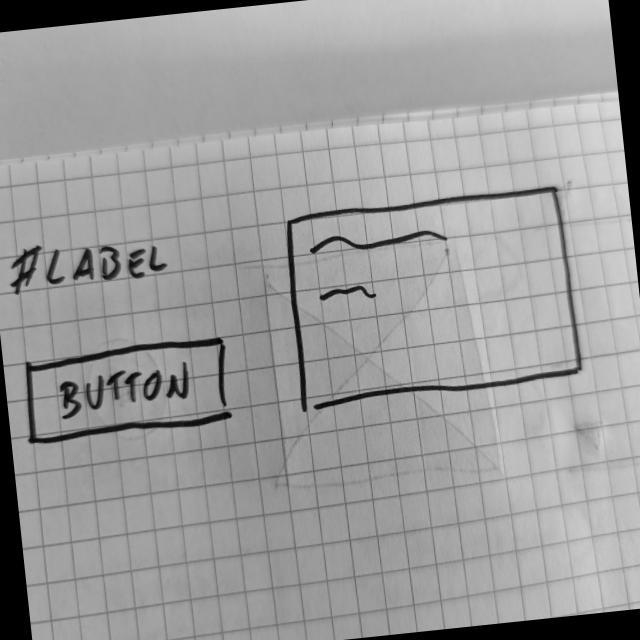button: (19, 332, 241, 454)
label: (5, 228, 173, 305)
textarea: (277, 178, 589, 417)
